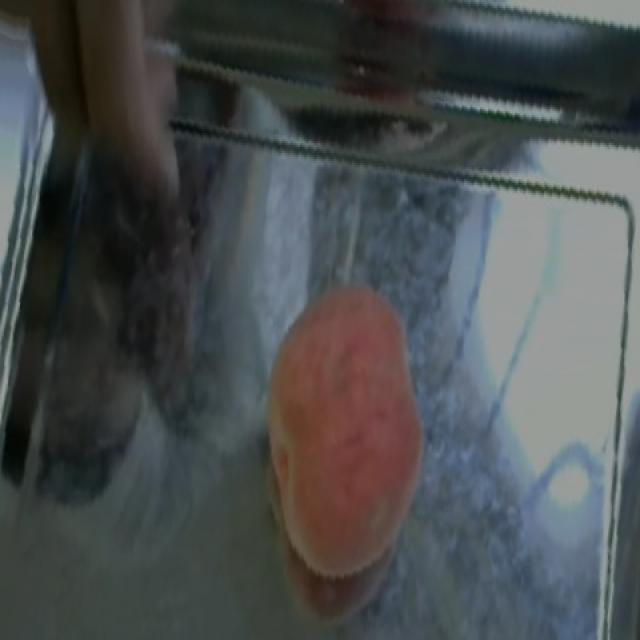Fruit: (237, 272, 439, 592)
